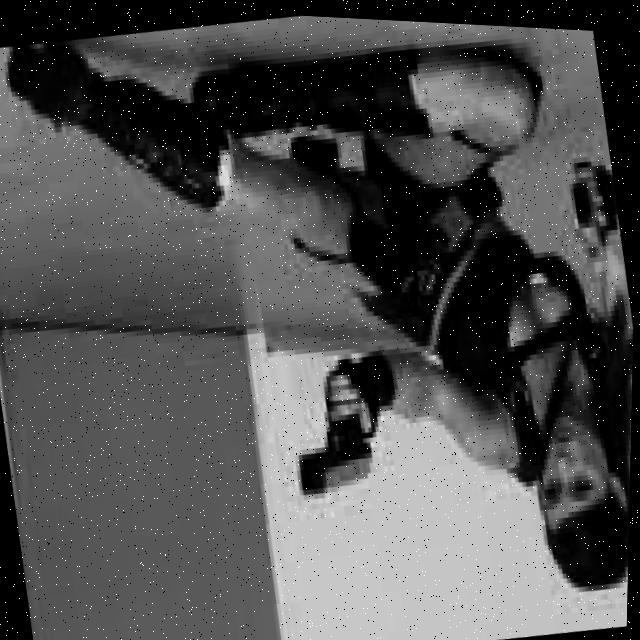pistol: (293, 409, 376, 494), (565, 169, 613, 267)
